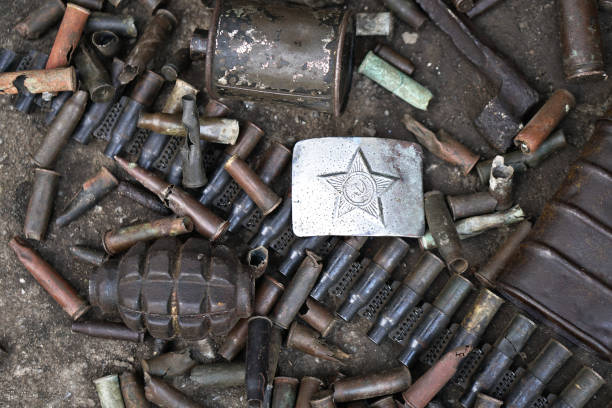e1: (85, 236, 255, 343)
